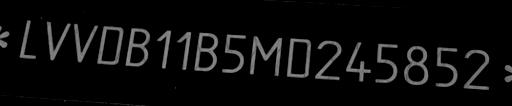letter: (247, 34, 285, 78), (461, 45, 493, 91), (312, 39, 344, 81), (95, 23, 125, 67), (123, 24, 153, 68), (344, 38, 374, 82), (402, 41, 430, 87), (220, 31, 248, 75), (433, 43, 461, 87), (44, 19, 72, 62), (72, 20, 100, 62), (192, 30, 220, 72), (284, 37, 312, 79), (374, 40, 400, 84), (16, 17, 40, 59), (154, 26, 174, 68), (174, 28, 192, 72)
